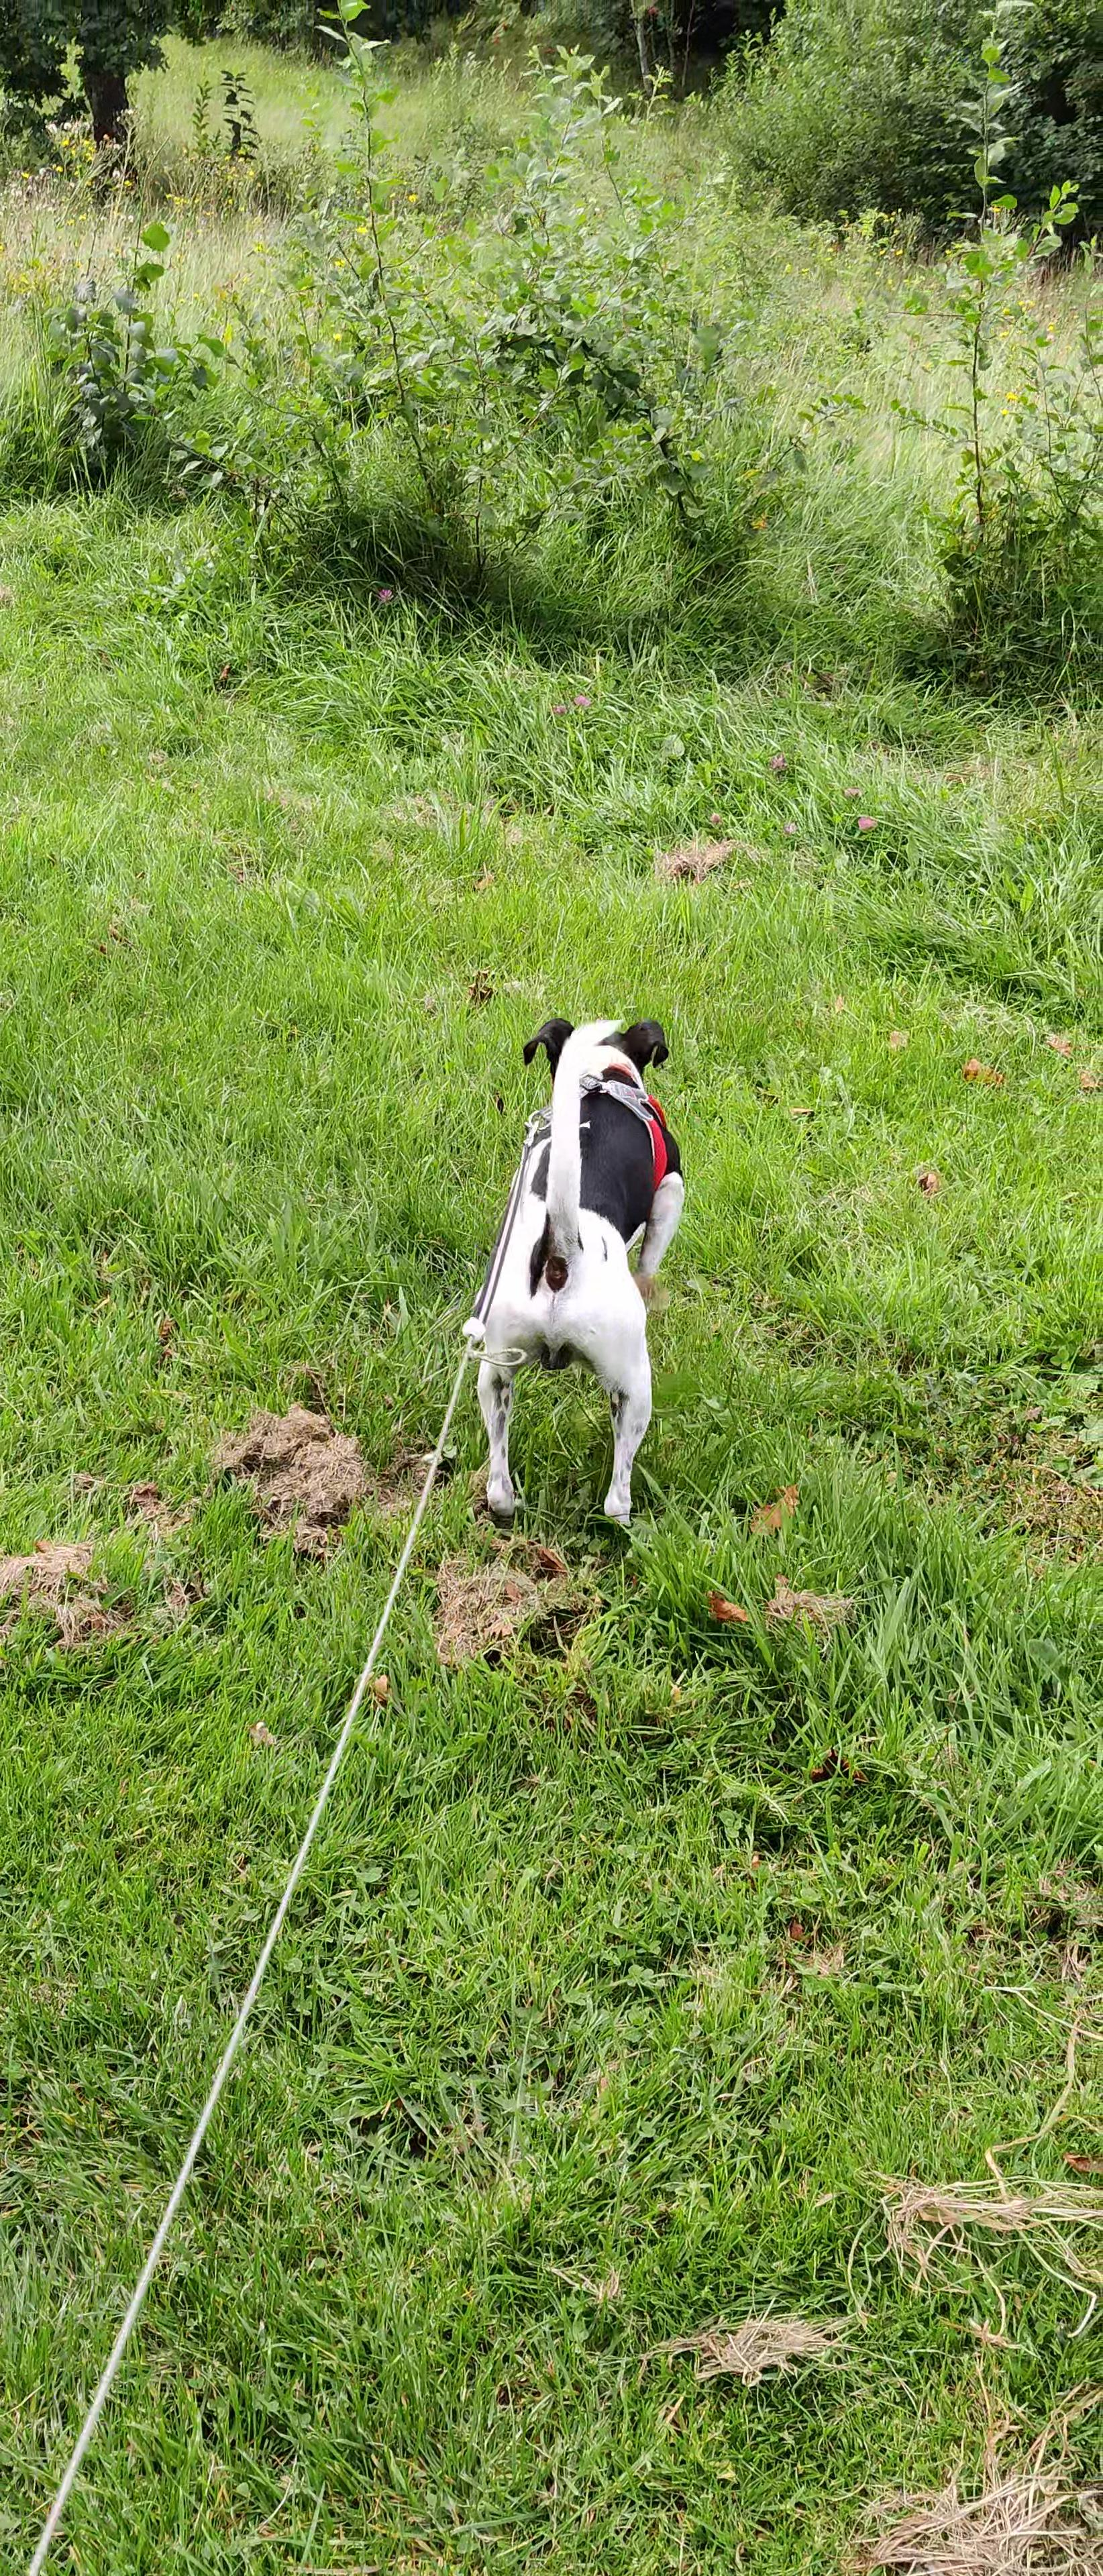Dog: (464, 1007, 690, 1543)
